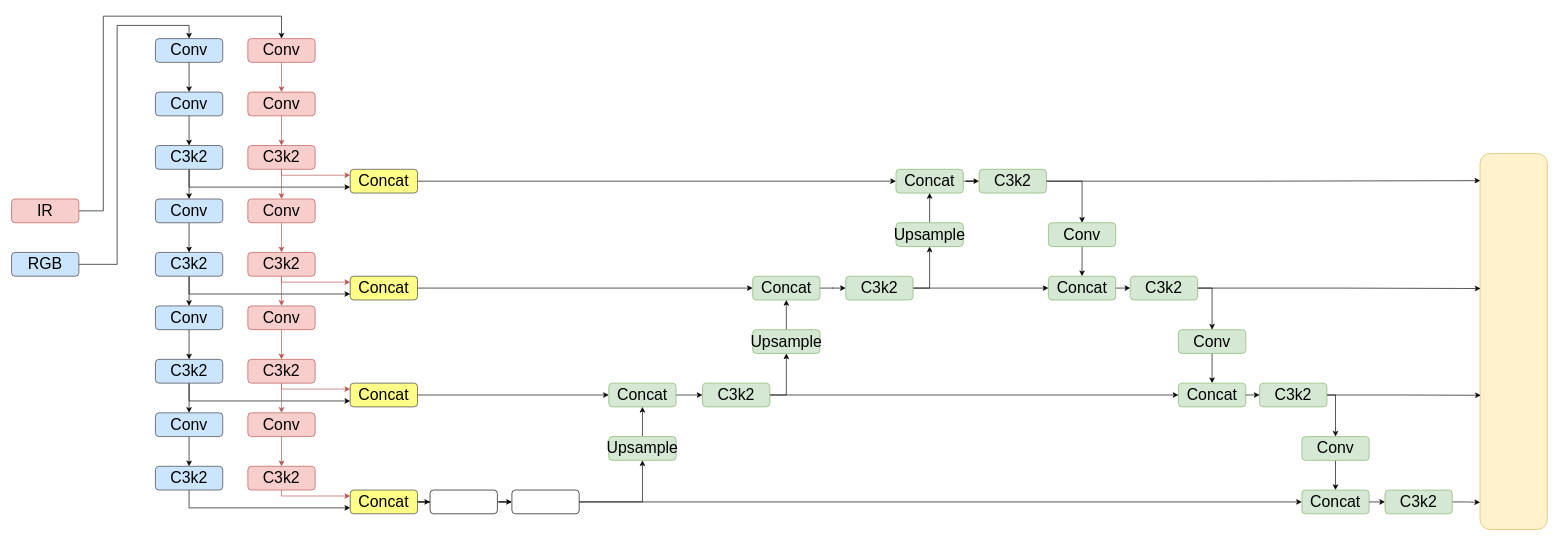
This 1559x541 diagram has some shape labels left out. The shapes that lost their labels are listed below. From the top down, each one's centre as x and y in pixels, then its label:
point 1513,341: Detect
point 463,501: SPPF
point 545,501: C2PSA
